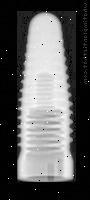Camlog: (17, 10, 77, 182)
